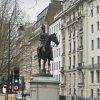Statue: (29, 20, 60, 76)
